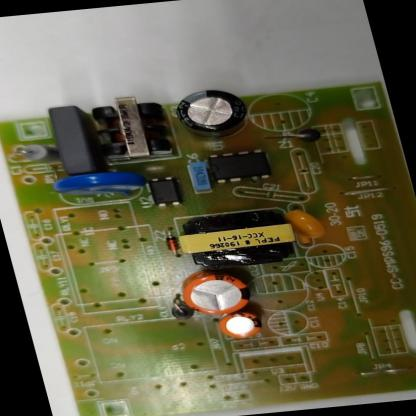Cap1: (176, 271, 256, 318)
Cap2: (216, 310, 265, 340)
Cap3: (172, 87, 248, 140)
MOSFET: (206, 149, 268, 184)
Mov: (51, 168, 142, 202)
Resistor: (17, 142, 62, 168)
Transformer: (180, 208, 299, 270), (89, 92, 175, 161)
